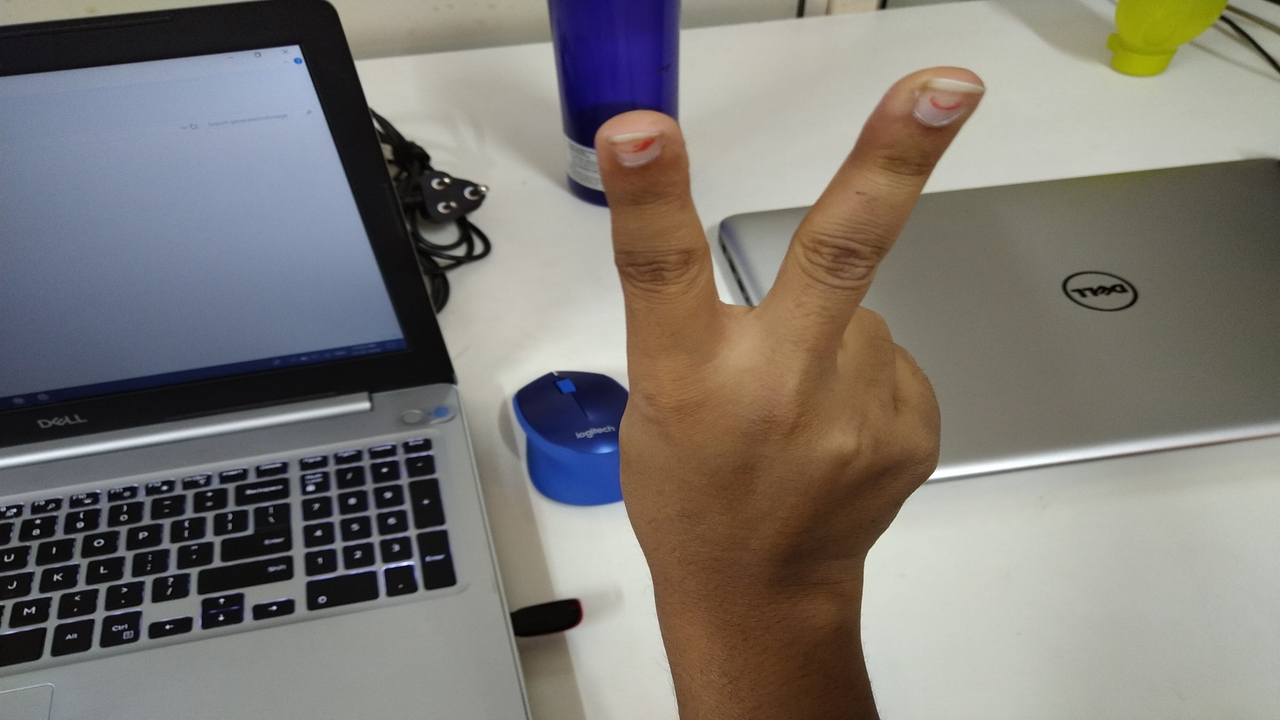fingertip: (592, 104, 682, 180), (894, 62, 994, 130)
